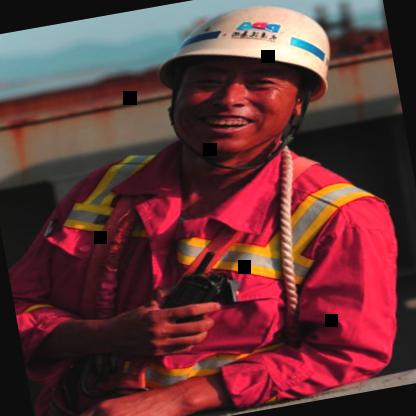helmet: (127, 0, 373, 179)
